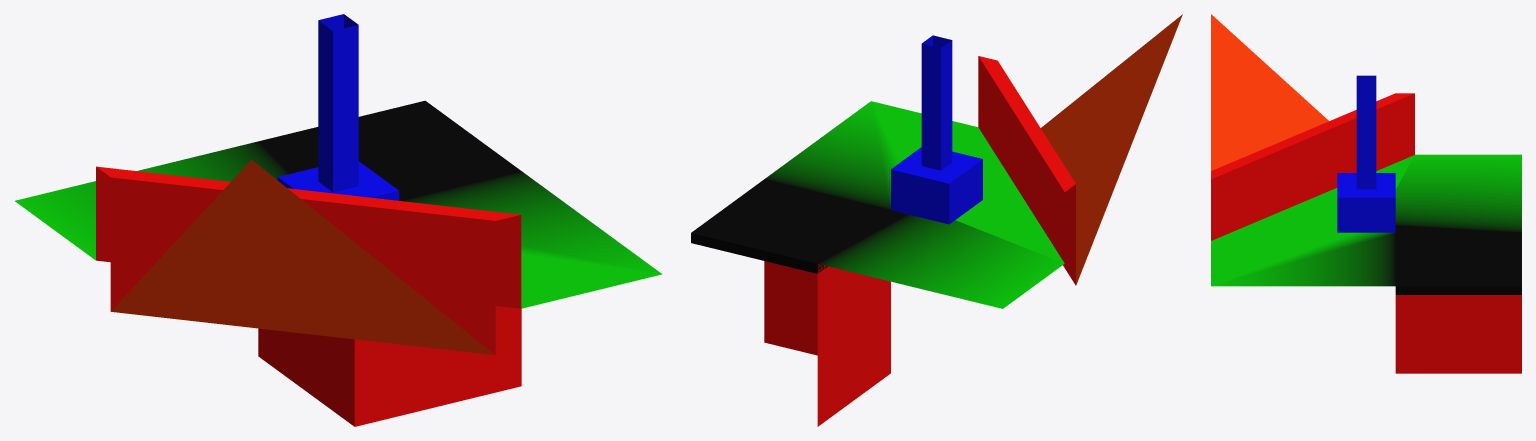
The model's file is None_P_W_E_E_W_S_E_E_BigStrut.fbx.
The picture shows the model from 3 angles, left to right: view 1: azimuth 30°, elevation 25°; view 2: azimuth 150°, elevation 25°; view 3: azimuth 270°, elevation 25°; orthographic projection. The views are drawn at different scales.
Parts seen in each view (by area): view 1: None_P_W_E_E_W_S_E_E_BigStrut; view 2: None_P_W_E_E_W_S_E_E_BigStrut; view 3: None_P_W_E_E_W_S_E_E_BigStrut.
Part boxes in pixels (x1=…): None_P_W_E_E_W_S_E_E_BigStrut: x1=15, y1=14, x2=661, y2=426; None_P_W_E_E_W_S_E_E_BigStrut: x1=691, y1=14, x2=1182, y2=426; None_P_W_E_E_W_S_E_E_BigStrut: x1=1211, y1=14, x2=1521, y2=373.
Bounding box in the file's own units: 100 × 100 × 100.
